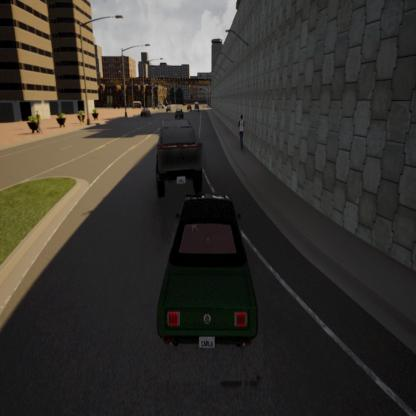Cars: (150, 192, 264, 355), (132, 120, 206, 194), (140, 105, 152, 120), (174, 107, 185, 119), (186, 102, 193, 112), (194, 100, 200, 111), (166, 104, 173, 113)
Pedestrian: (235, 113, 247, 152)
